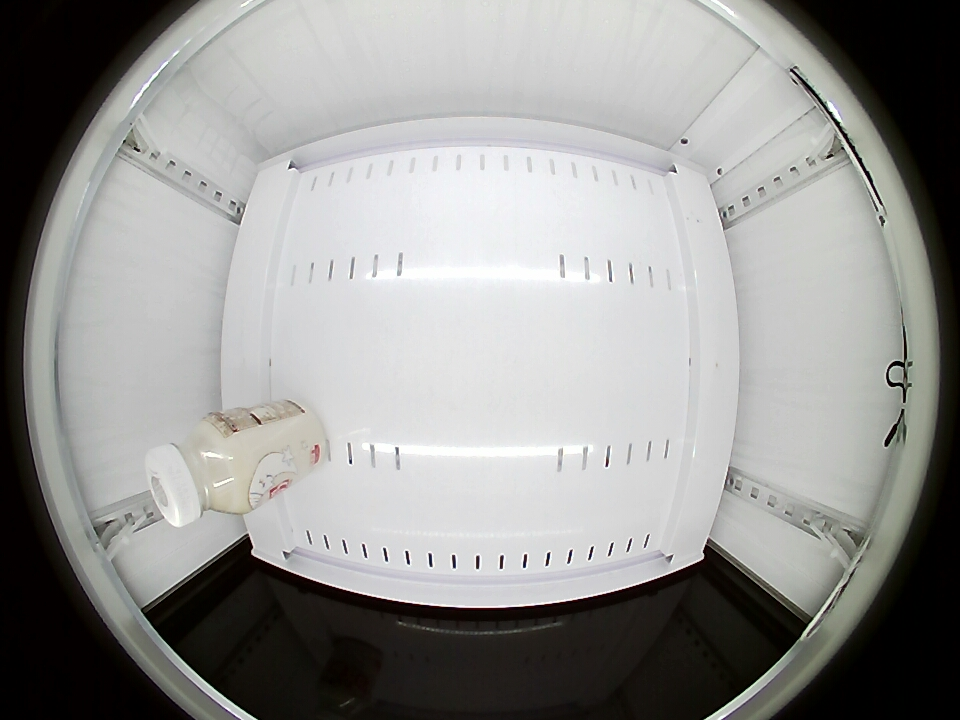weiweidounai: (145, 414, 255, 528)
